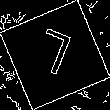L_S: (31, 26, 79, 84)
